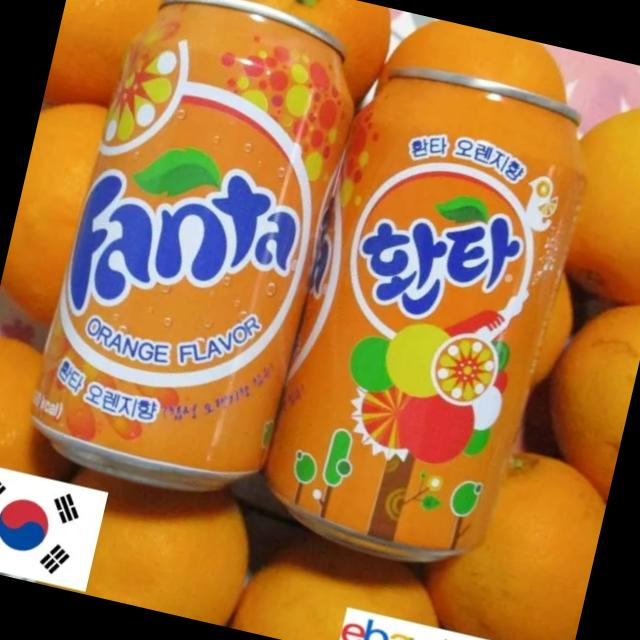fanta: (245, 39, 592, 576), (23, 0, 367, 511)
